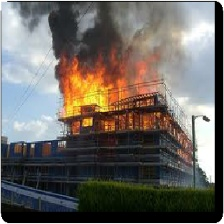fire: (53, 61, 174, 134)
smoke: (19, 1, 187, 67)
